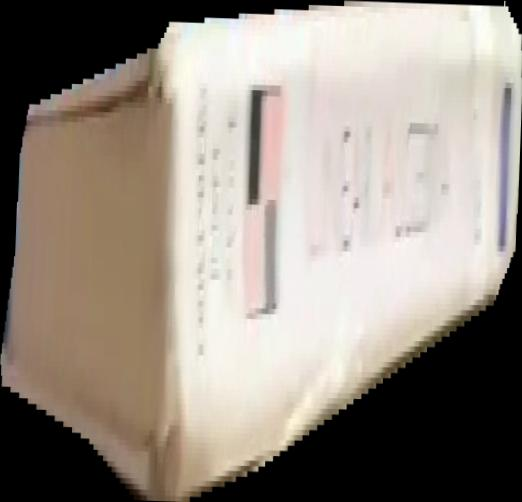flat: (1, 1, 522, 502)
